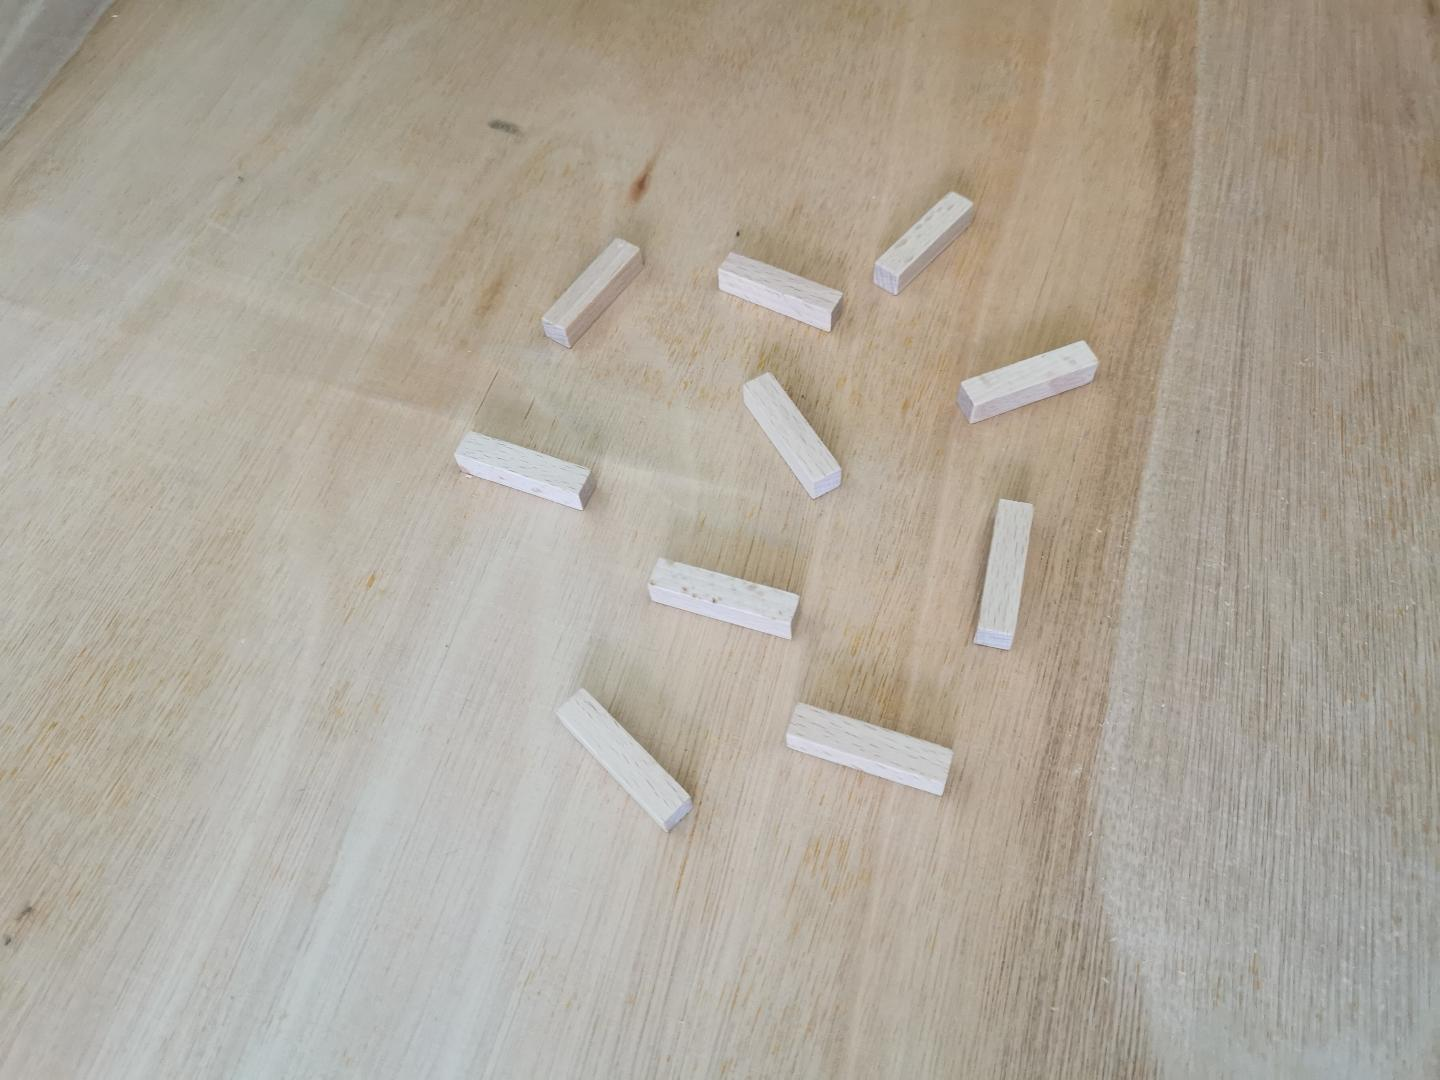jenga: (557, 689, 692, 829), (788, 703, 954, 796), (647, 557, 798, 639), (743, 374, 841, 498), (956, 340, 1096, 422), (543, 239, 644, 346), (456, 433, 593, 509), (874, 192, 973, 295), (718, 253, 844, 332), (973, 498, 1032, 650)
